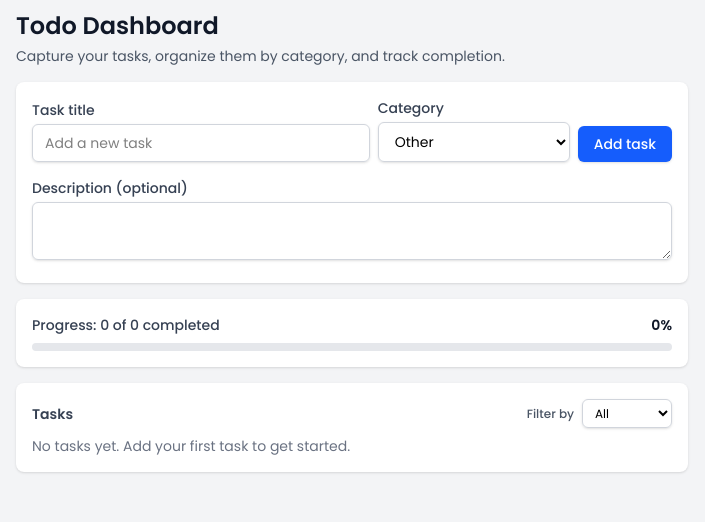
it: TodoDashboard progress › updates progress when a task is completed
In the field labelled "Task title": (201, 143) [32,124,370,162], type "Task to complete"
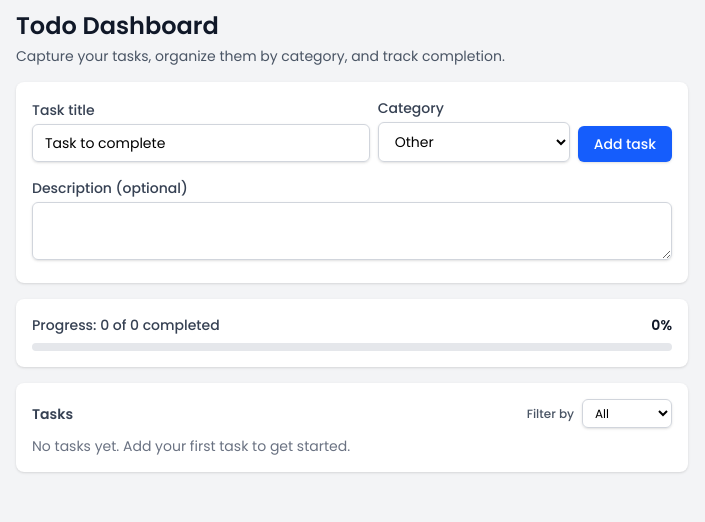
Click the button "Add task": (625, 144) [578,126,672,162]
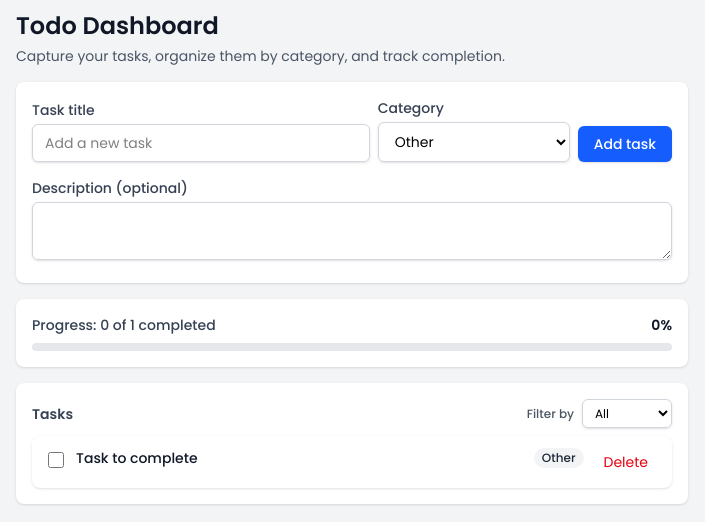
Check: the text "Progress: 0 of 1 completed" is shown, box [32,315,216,335]
Click the checkbox named "mark task \"task to complete\" as complete": (56, 460) [48,452,64,468]
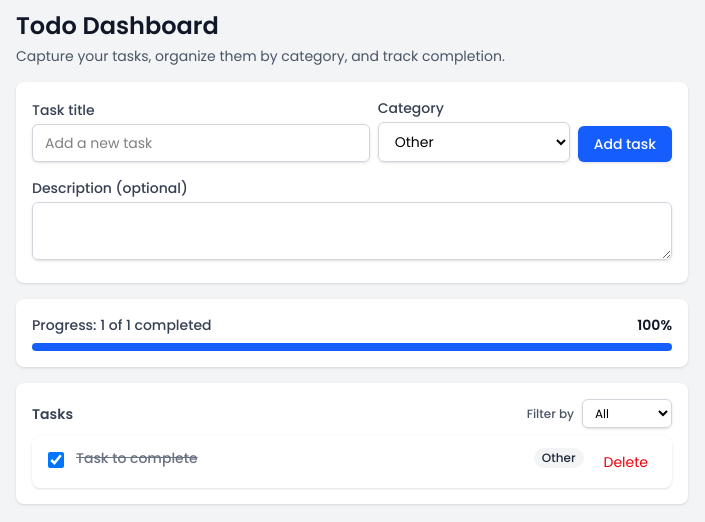
Check: the text "Progress: 1 of 1 completed" is shown, box [32,315,212,335]
Check: the text "100%" is shown, box [637,315,672,335]
